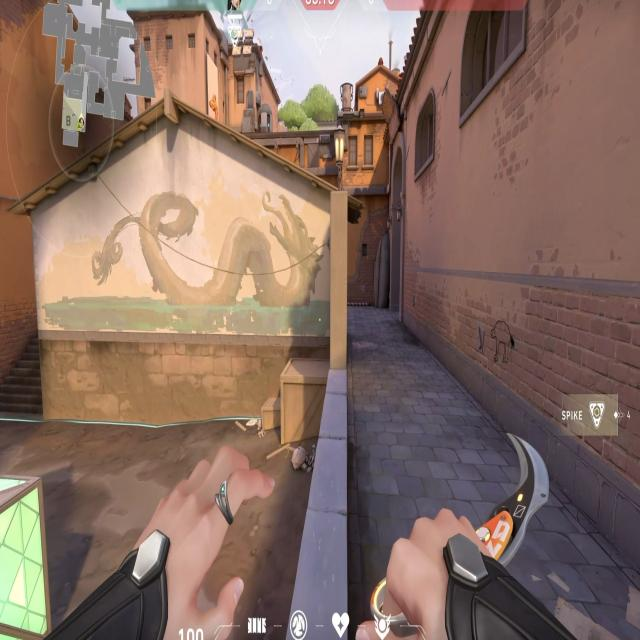Throwables: (444, 0, 544, 130), (407, 80, 444, 186)
